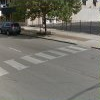crosswalk: (0, 45, 87, 75)
